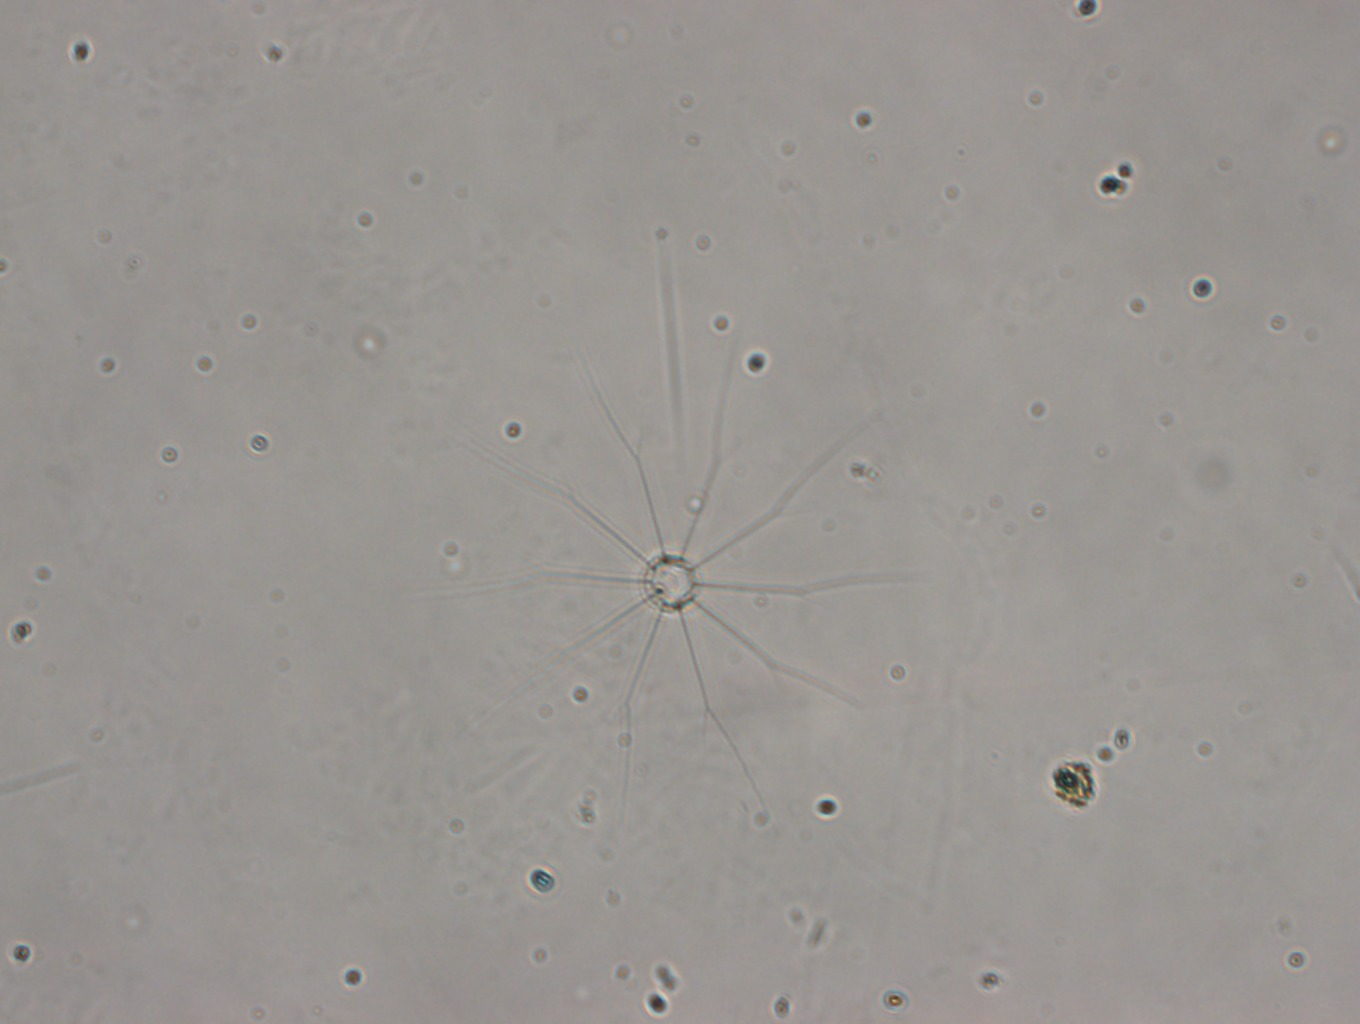bacteriastrum: (413, 325, 931, 833)
